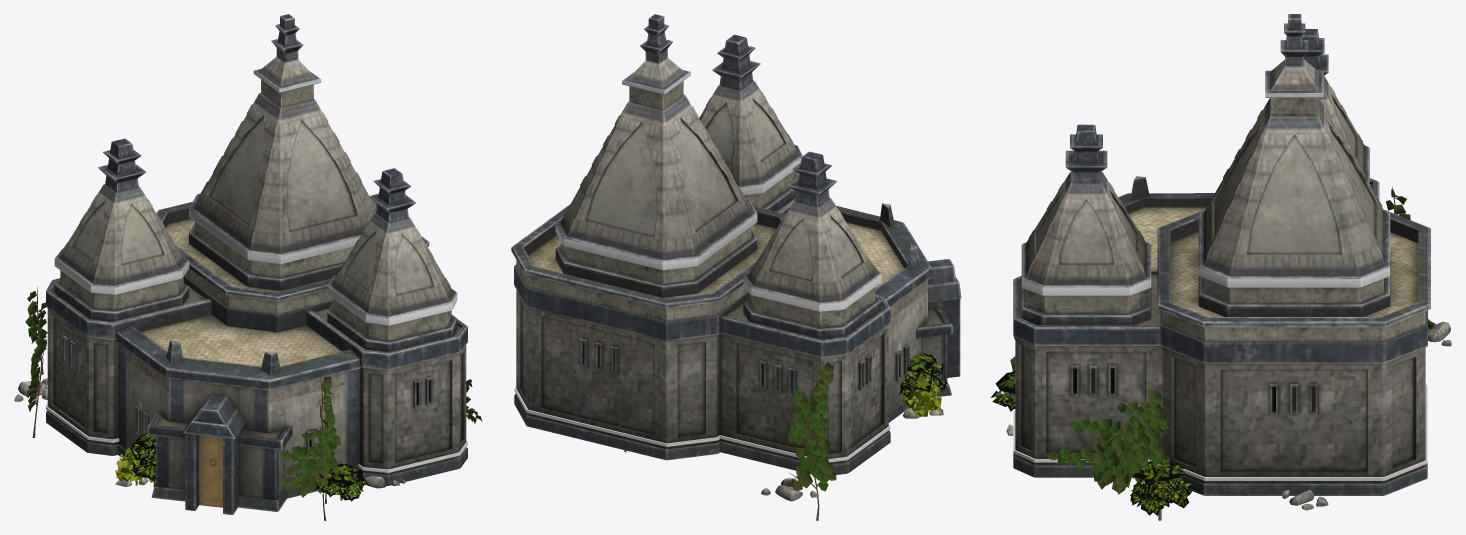
Rendered from 60-palace.glb.
3 renders of one model, left to right at view 1: azimuth 30°, elevation 25°; view 2: azimuth 150°, elevation 25°; view 3: azimuth 270°, elevation 25°, orthographic. The views are drawn at different scales.
Size of the model in its own units: 11.63 by 12.81 by 11.59.
Materials: 12 (12 with a texture image).
